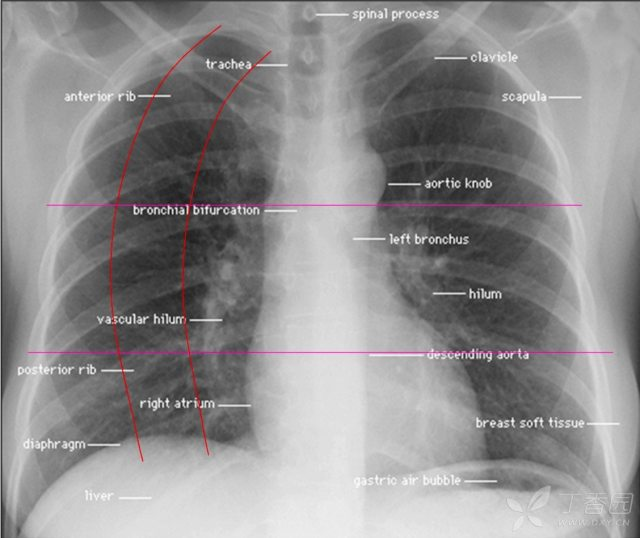telestration: (104, 26, 221, 465), (180, 50, 274, 459), (25, 345, 612, 358), (47, 200, 585, 211), (474, 415, 622, 431), (353, 473, 497, 489), (312, 6, 442, 22), (96, 312, 224, 328), (365, 348, 532, 360), (138, 397, 252, 414), (130, 203, 299, 214), (350, 233, 471, 248), (63, 89, 171, 104), (13, 364, 137, 377), (431, 48, 522, 65), (20, 436, 122, 451), (385, 178, 494, 190), (498, 90, 583, 105), (432, 285, 505, 301), (204, 59, 293, 71), (77, 489, 154, 502)
